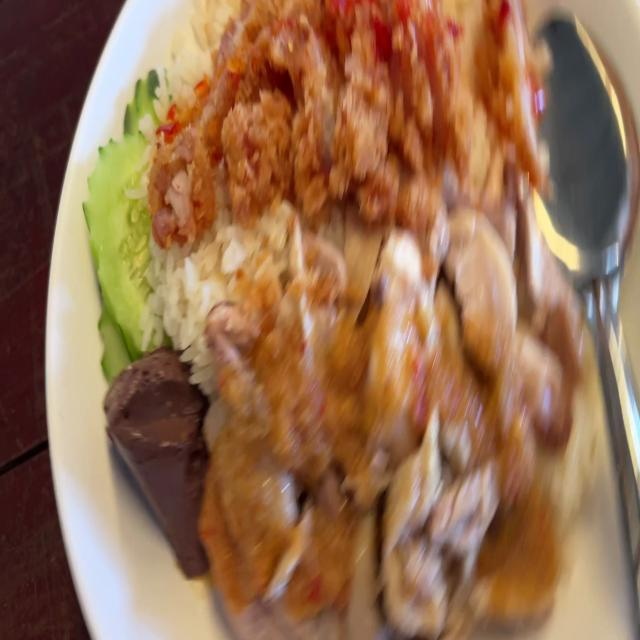chicken_rice: (209, 238, 556, 634)
noodle: (106, 350, 205, 573)
